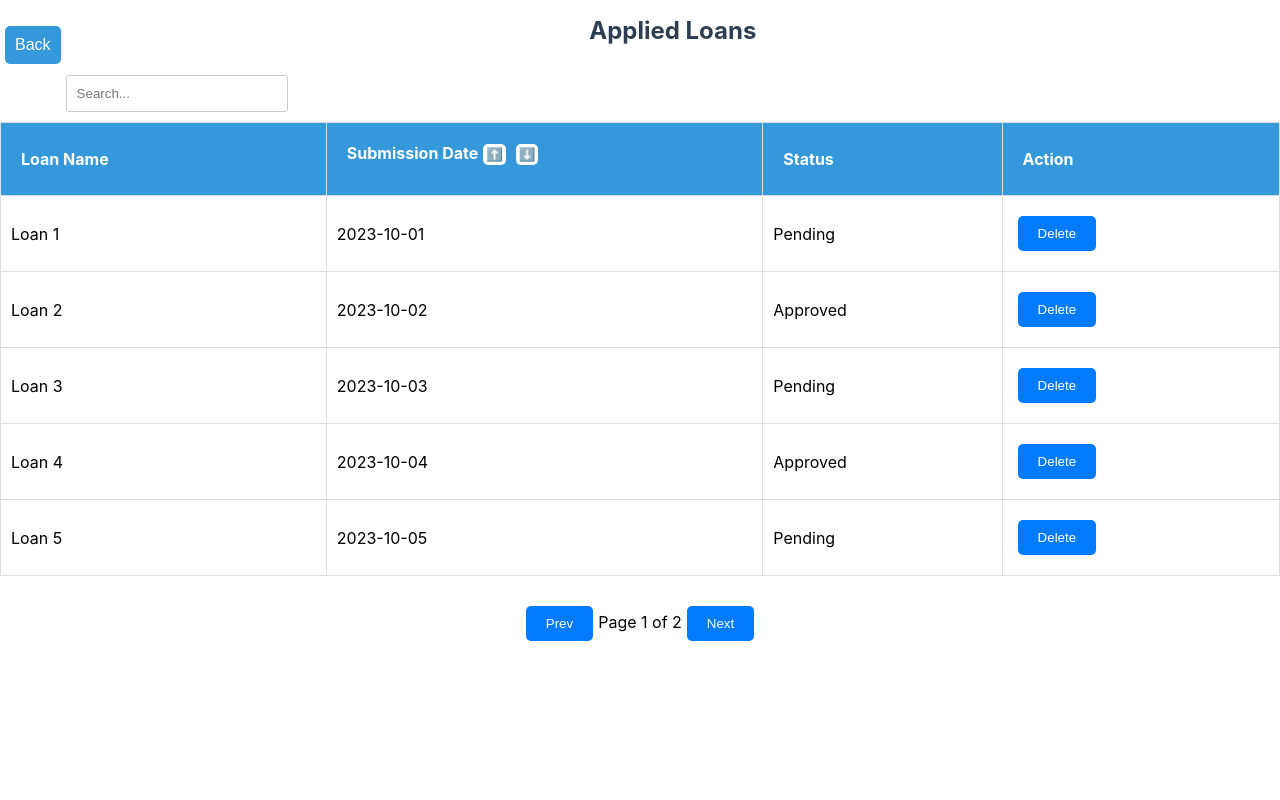
Scenario: AppliedLoansPage Component › applied_loans_should_navigate_to_the_previous_page_in_pagination
Click the button "Next" at (720, 624), box [687,606,754,641]
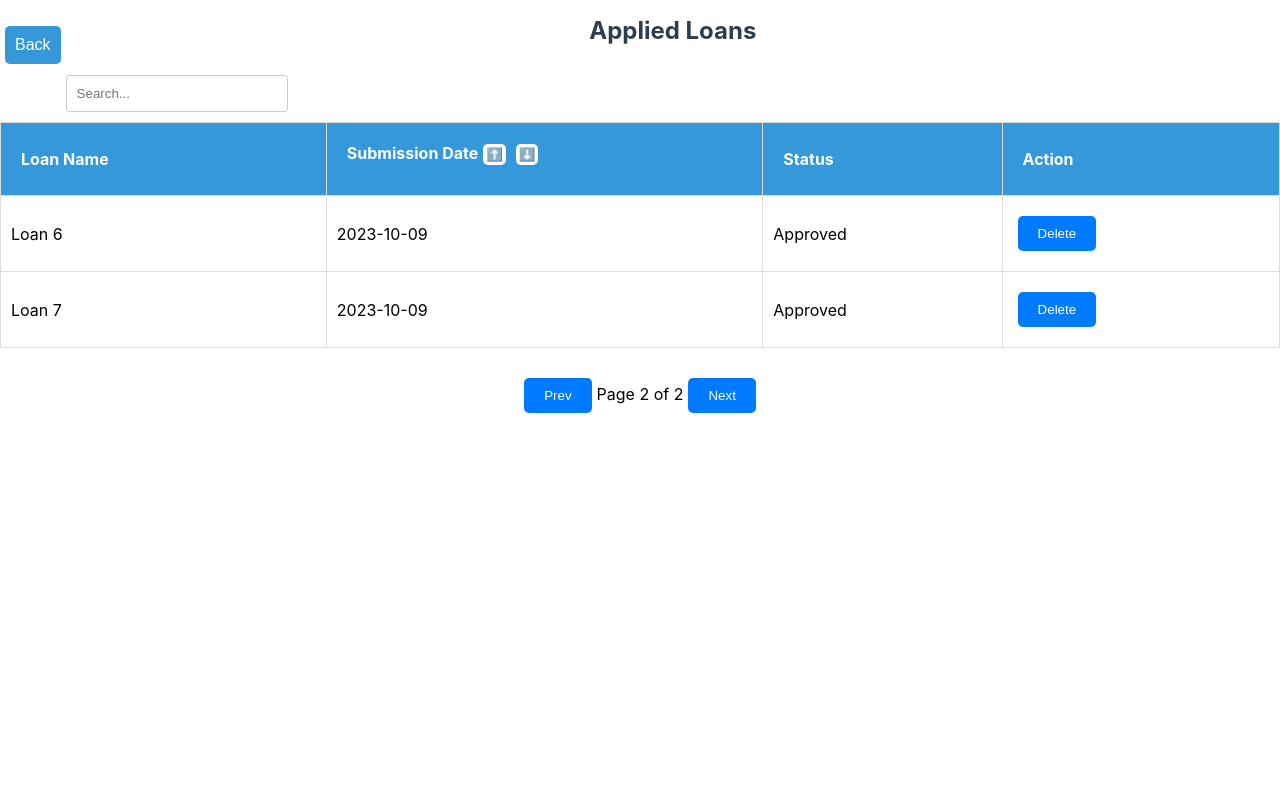
Check: the text "Loan 1" is gone
Click the button "Prev" at (558, 396), box [524,378,592,413]
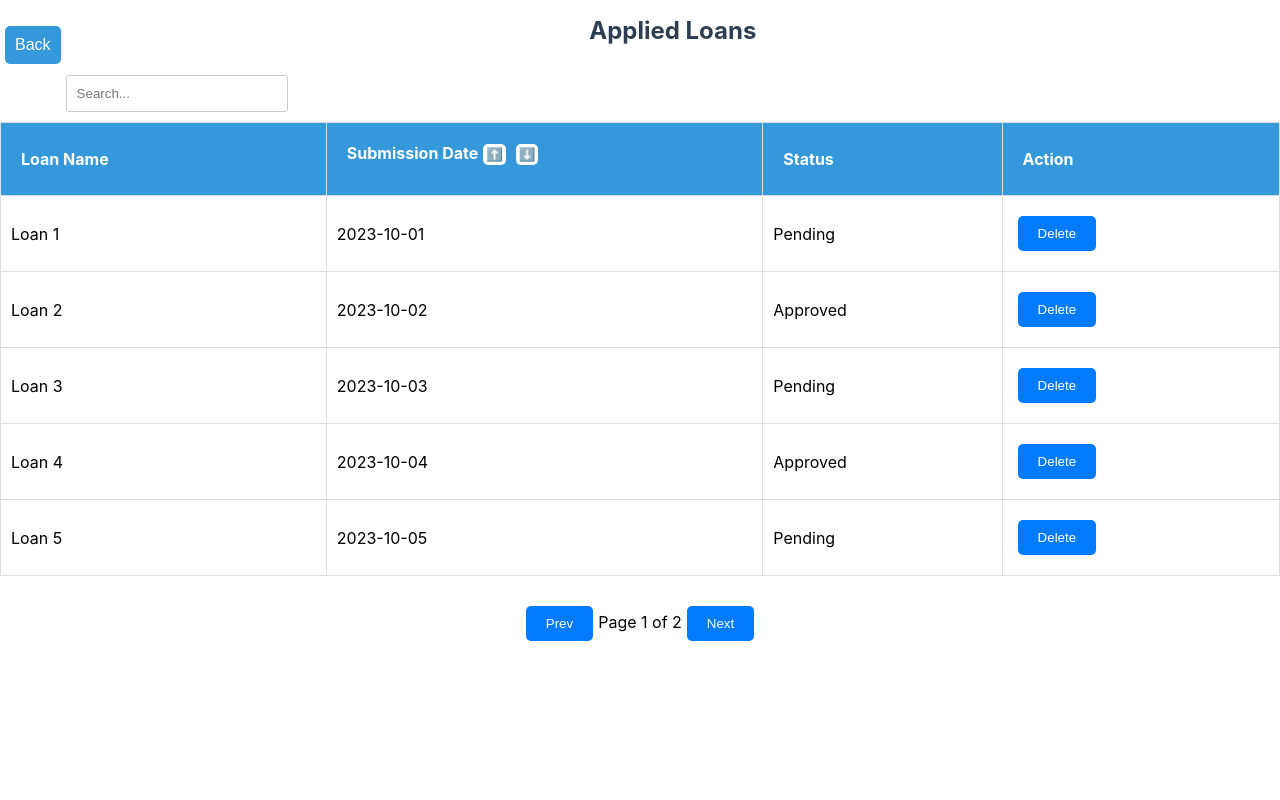
Check: the text "Loan 1" is shown, box [0,196,326,272]
